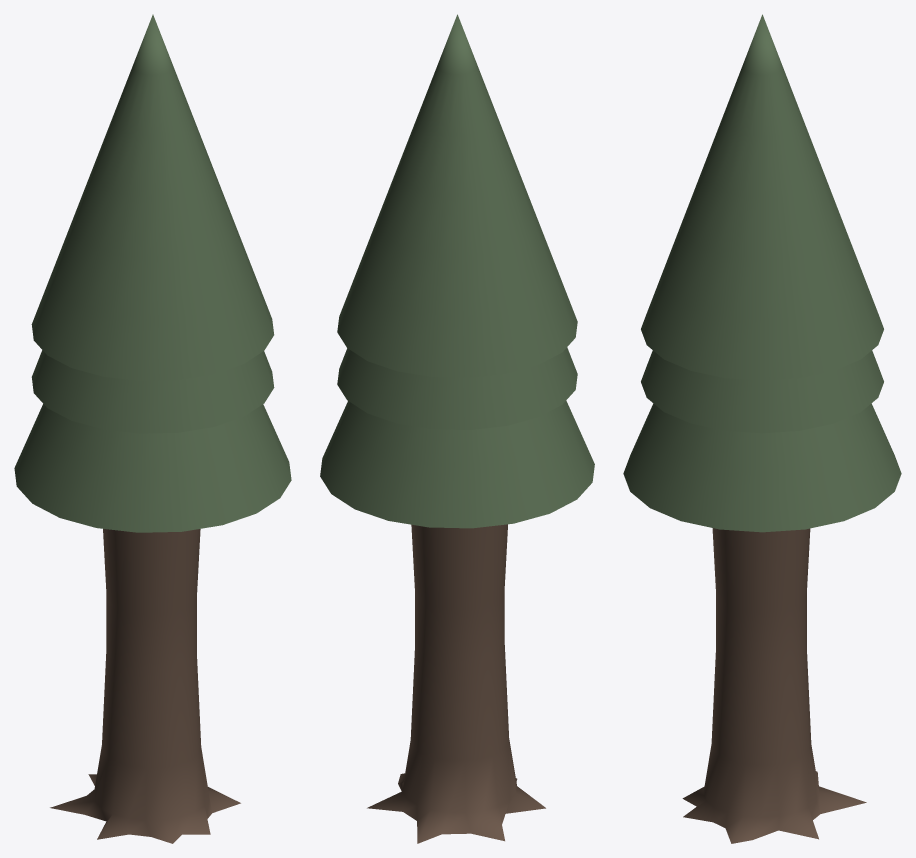
The model's file is ep_tree_spruce.fbx.
The picture shows the model from 3 angles, left to right: view 1: azimuth 30°, elevation 25°; view 2: azimuth 150°, elevation 25°; view 3: azimuth 270°, elevation 25°; orthographic projection.
Visible parts, largest first — view 1: pCone3, pCylinder6, pCone1, pCone2; view 2: pCone3, pCylinder6, pCone1, pCone2; view 3: pCone3, pCylinder6, pCone1, pCone2.
Boxes of the visible parts, <box> form: pCone3: <box>31,14,274,380</box>; pCylinder6: <box>50,529,240,843</box>; pCone1: <box>14,404,291,532</box>; pCone2: <box>31,350,274,433</box>; pCone3: <box>337,14,577,377</box>; pCylinder6: <box>367,524,545,843</box>; pCone1: <box>320,400,594,528</box>; pCone2: <box>337,347,577,429</box>; pCone3: <box>641,14,883,380</box>; pCylinder6: <box>682,528,866,843</box>; pCone1: <box>623,403,901,532</box>; pCone2: <box>641,350,883,433</box>.
Size of the model in its own units: 400 by 1260 by 400.
